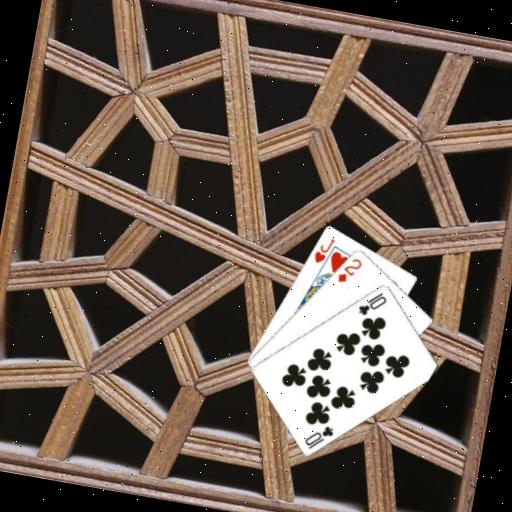10C: (300, 418, 337, 454), (353, 285, 389, 320)
2D: (333, 252, 364, 287)
JH: (309, 232, 336, 267)
